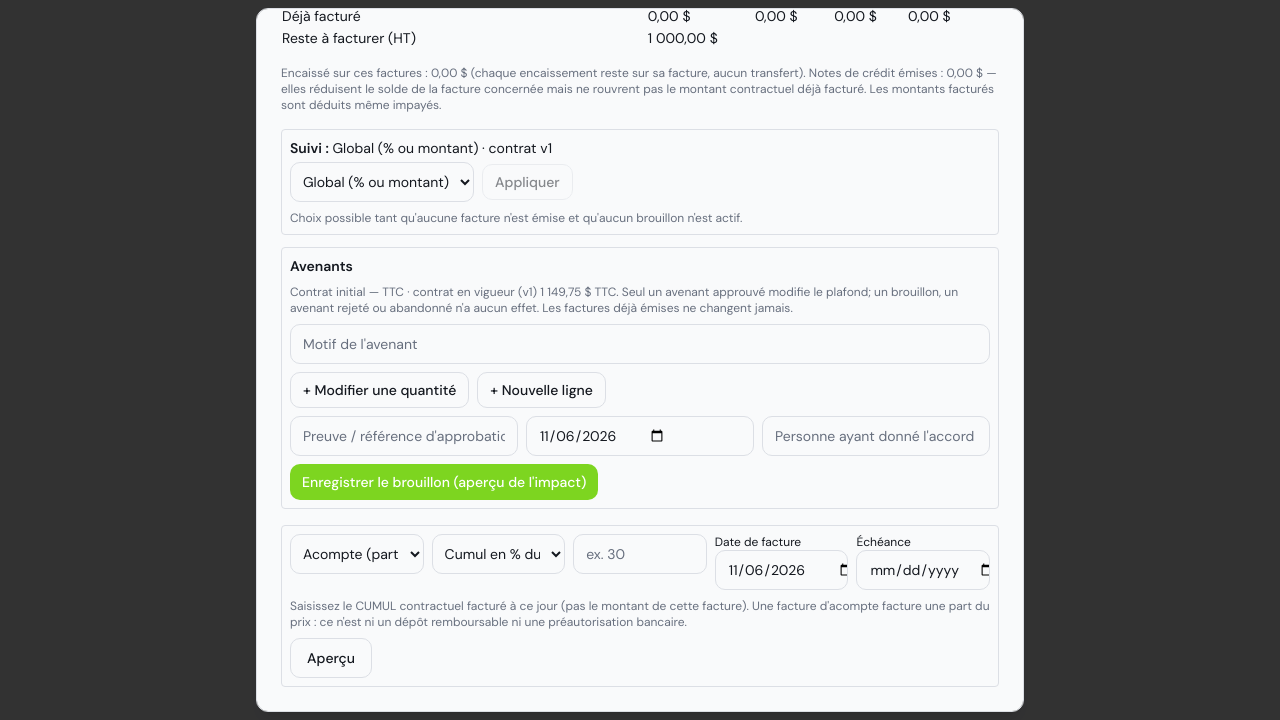
it: FIN-09B1 — aperçu et émission › envoie le cumul fr-CA normalisé; toute modification retire « Émettre »
(page scrolled)
Type "30,0" into the field named "Cumul contractuel".
click(640, 554); type("30,0")  # box x1=573 y1=534 x2=707 y2=574
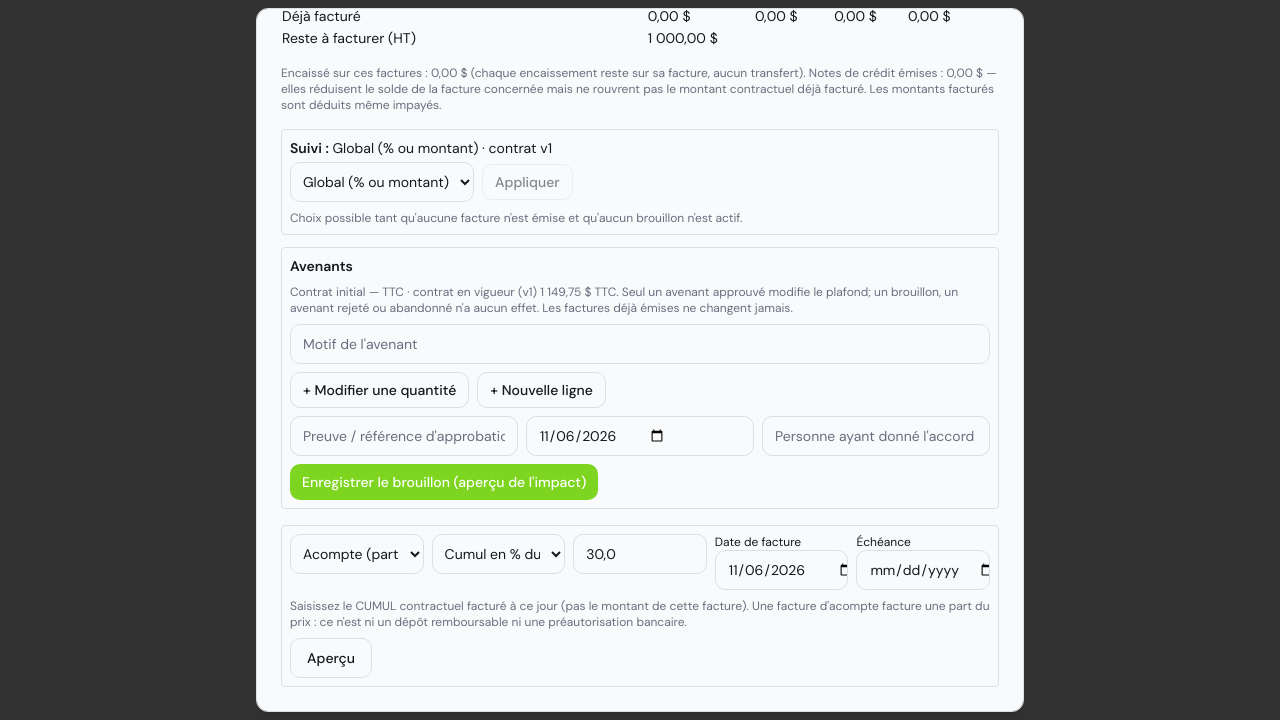
Click the button "Aperçu".
click(331, 658)  # box x1=290 y1=638 x2=372 y2=678
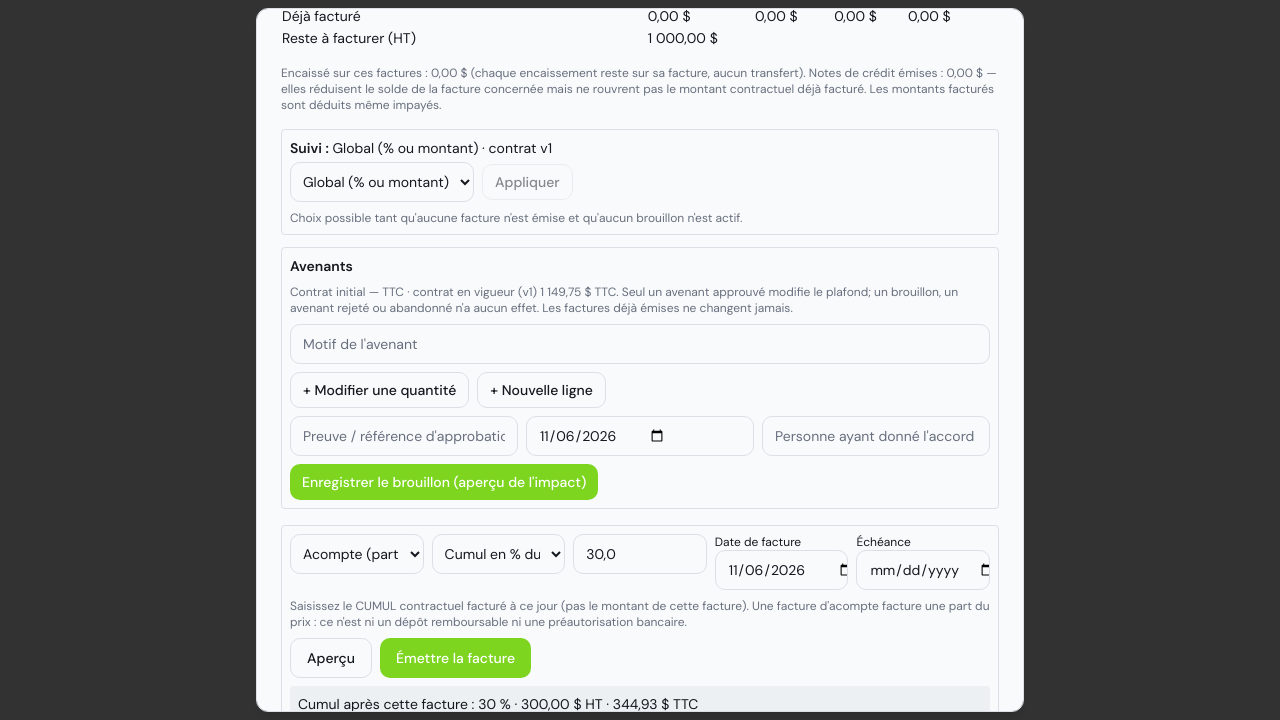
Expected: the button "Émettre la facture" is shown, x1=380 y1=638 x2=531 y2=678
Expected: the text "344,93" is shown, x1=613 y1=695 x2=669 y2=712
Replace the text in the field named "Cumul contractuel" with "40" at (640, 554), box x1=573 y1=534 x2=707 y2=574
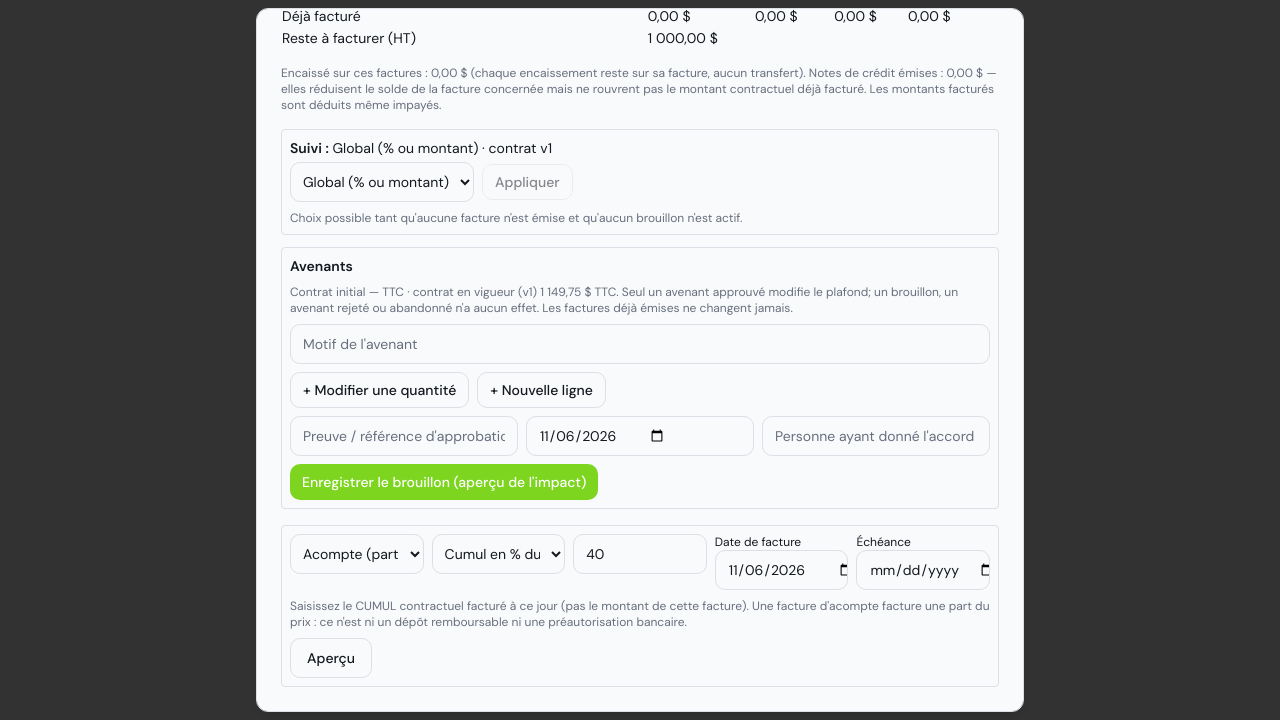
Expected: the button "Émettre la facture" is gone
